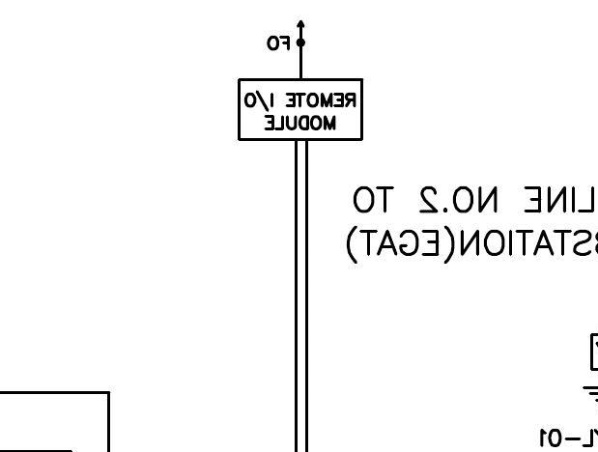remote_io_module: (237, 78, 364, 141)
